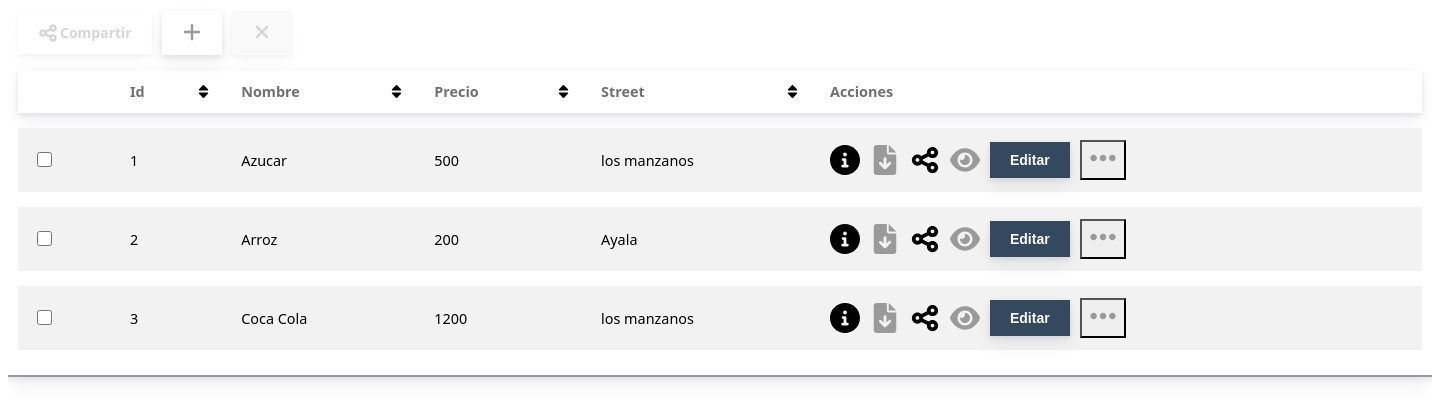
Test: Testing Table › Debe permitir ordenar la columna nombre de forma ascendente
Click the text "Nombre".
click(271, 92)  # box [241,82,404,101]
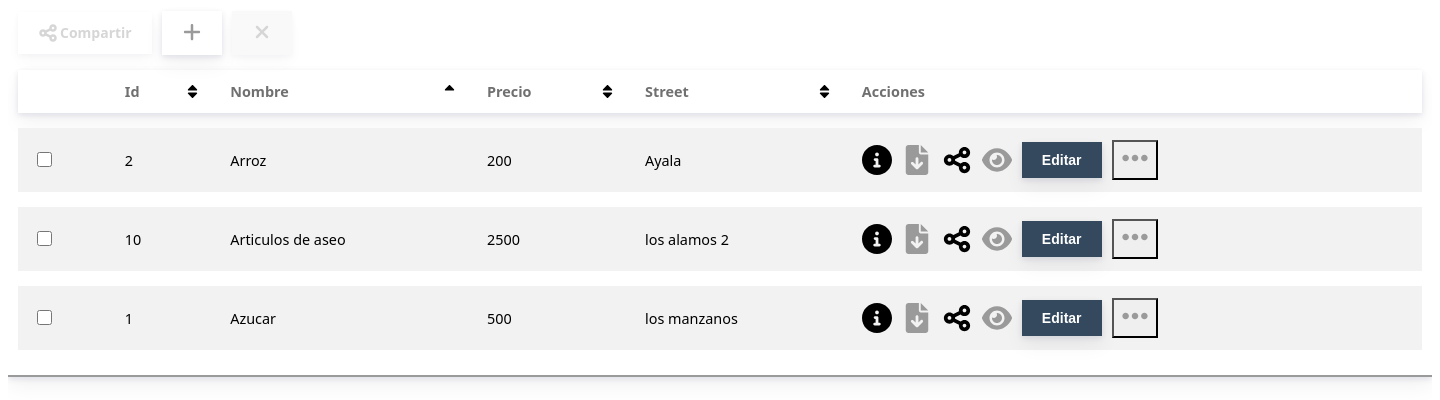
Expected: the cell "Articulos de aseo" is shown, [215,207,472,271]
